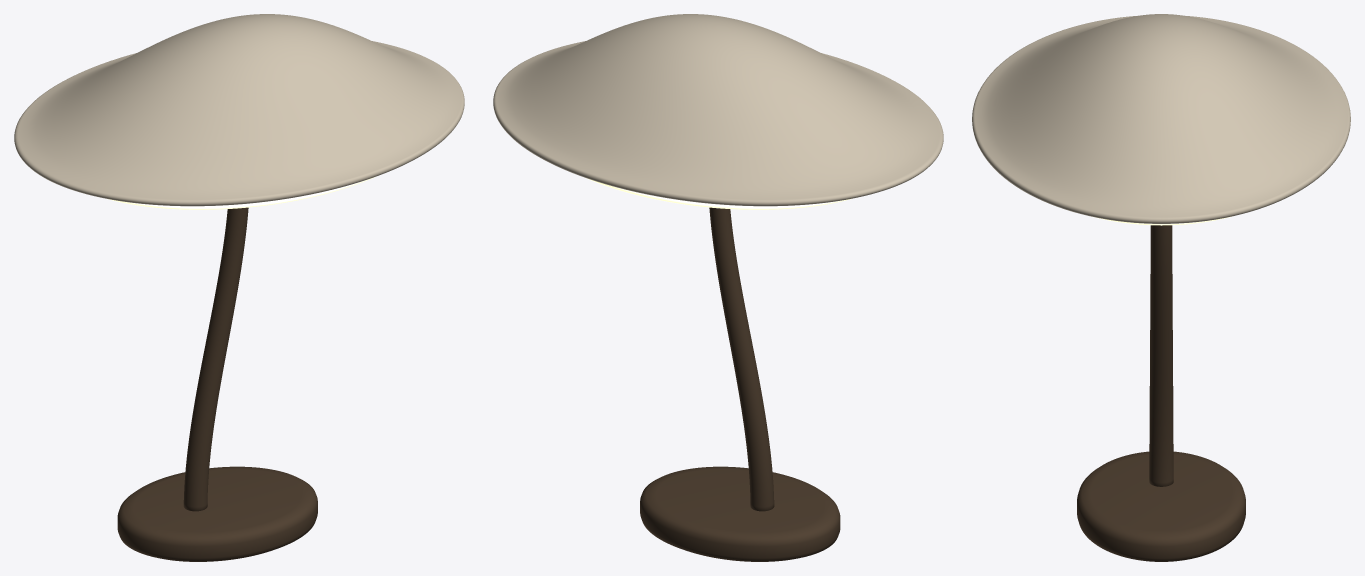
Rendered from poise.glb.
The picture shows the model from 3 angles, left to right: view 1: azimuth 30°, elevation 25°; view 2: azimuth 150°, elevation 25°; view 3: azimuth 270°, elevation 25°; orthographic projection. The views are drawn at different scales.
Visible parts, largest first — view 1: 01 Shade - closed mineral shell, 03 Base - rounded bronze plinth, 04 Stem - tapered S curve, 02 Diffuser - inset opal annulus; view 2: 01 Shade - closed mineral shell, 03 Base - rounded bronze plinth, 04 Stem - tapered S curve, 02 Diffuser - inset opal annulus; view 3: 01 Shade - closed mineral shell, 03 Base - rounded bronze plinth, 04 Stem - tapered S curve.
Part boxes in pixels (bbox=[...]): 01 Shade - closed mineral shell: bbox=[14, 14, 464, 206]; 03 Base - rounded bronze plinth: bbox=[117, 466, 317, 561]; 04 Stem - tapered S curve: bbox=[183, 207, 248, 511]; 02 Diffuser - inset opal annulus: bbox=[106, 177, 374, 209]; 01 Shade - closed mineral shell: bbox=[493, 14, 943, 206]; 03 Base - rounded bronze plinth: bbox=[640, 466, 840, 561]; 04 Stem - tapered S curve: bbox=[709, 207, 774, 511]; 02 Diffuser - inset opal annulus: bbox=[583, 177, 851, 209]; 01 Shade - closed mineral shell: bbox=[972, 14, 1350, 223]; 03 Base - rounded bronze plinth: bbox=[1077, 451, 1245, 561]; 04 Stem - tapered S curve: bbox=[1149, 225, 1173, 486].
Bounding box in the file's own units: 0.4167 × 0.477 × 0.3253.
